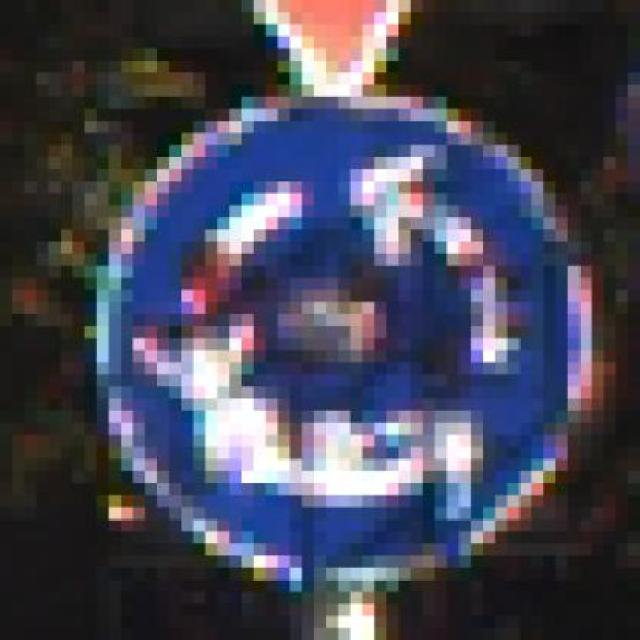Round-About: (36, 61, 629, 616)
